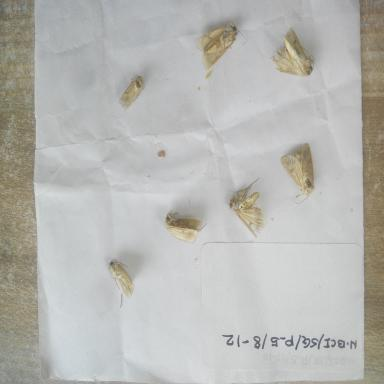abw: (191, 16, 250, 78), (226, 172, 268, 242), (268, 23, 316, 84), (276, 140, 318, 207), (161, 206, 211, 248), (103, 253, 137, 304), (116, 68, 149, 116)
